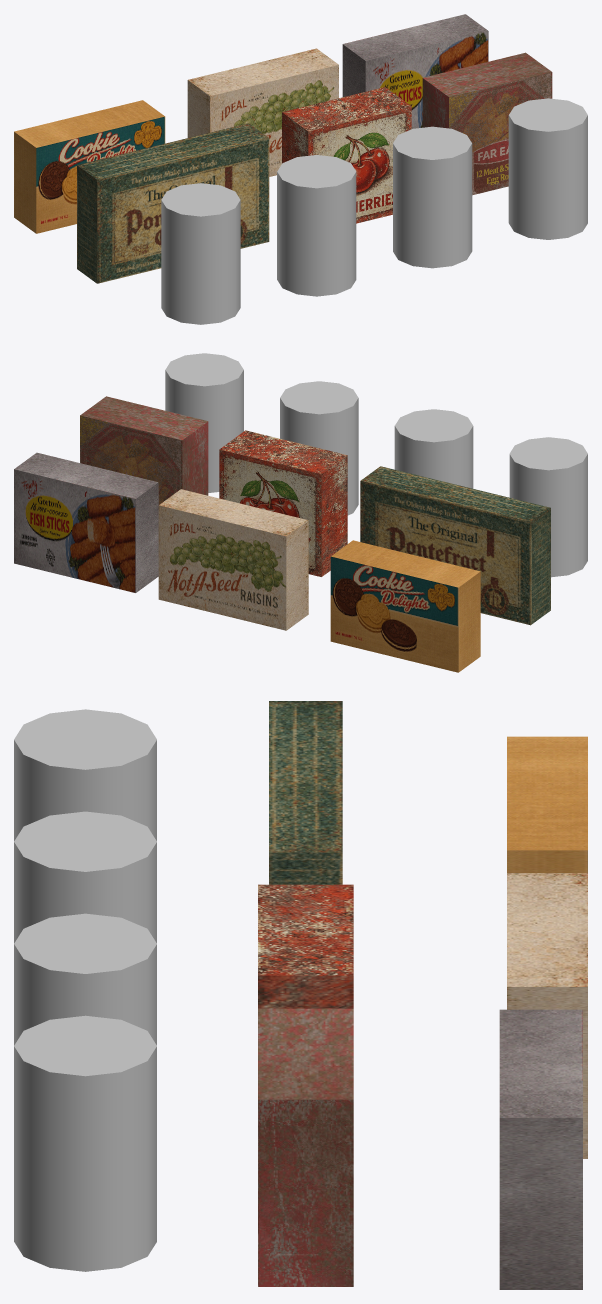
File: food.fbx
3 views of the same model, one above another, from view 1: azimuth 30°, elevation 25°; view 2: azimuth 150°, elevation 25°; view 3: azimuth 270°, elevation 25° (orthographic). The views are drawn at different scales.
Visible parts, largest first — view 1: Cake, Cookie, Milk, Salmon, Tomatoes, Corn, Egg, Cherry, Raisins, Fish; view 2: Cake, Raisins, Fish, Cookie, Cherry, Egg, Tomatoes, Salmon, Milk, Corn; view 3: Salmon, Egg, Fish, Tomatoes, Corn, Milk, Cake, Cherry, Raisins, Cookie.
Boxes of the visible parts, box(x1,y1,x2,y2) form: Cake: box(77, 123, 269, 283); Cookie: box(14, 100, 165, 233); Milk: box(393, 126, 472, 268); Salmon: box(508, 98, 587, 239); Tomatoes: box(161, 183, 240, 324); Corn: box(277, 155, 356, 296); Egg: box(422, 52, 552, 195); Cherry: box(282, 87, 411, 223); Raisins: box(187, 48, 338, 176); Fish: box(342, 14, 488, 128); Cake: box(360, 466, 550, 625); Raisins: box(158, 489, 308, 630); Fish: box(14, 452, 158, 592); Cookie: box(330, 540, 480, 672); Cherry: box(219, 430, 347, 576); Egg: box(80, 396, 208, 504); Tomatoes: box(509, 437, 587, 577); Salmon: box(165, 353, 243, 492); Milk: box(280, 381, 358, 515); Corn: box(394, 409, 473, 488); Salmon: box(14, 1015, 156, 1271); Egg: box(258, 1008, 353, 1286); Fish: box(499, 1009, 582, 1289); Tomatoes: box(14, 709, 156, 840); Corn: box(14, 811, 156, 943); Milk: box(14, 913, 156, 1045); Cake: box(269, 701, 342, 884); Cherry: box(258, 884, 353, 1008); Raisins: box(507, 873, 587, 1158); Cookie: box(507, 736, 587, 872).
Size of the model in its own units: 5503 by 1251 by 3326.
